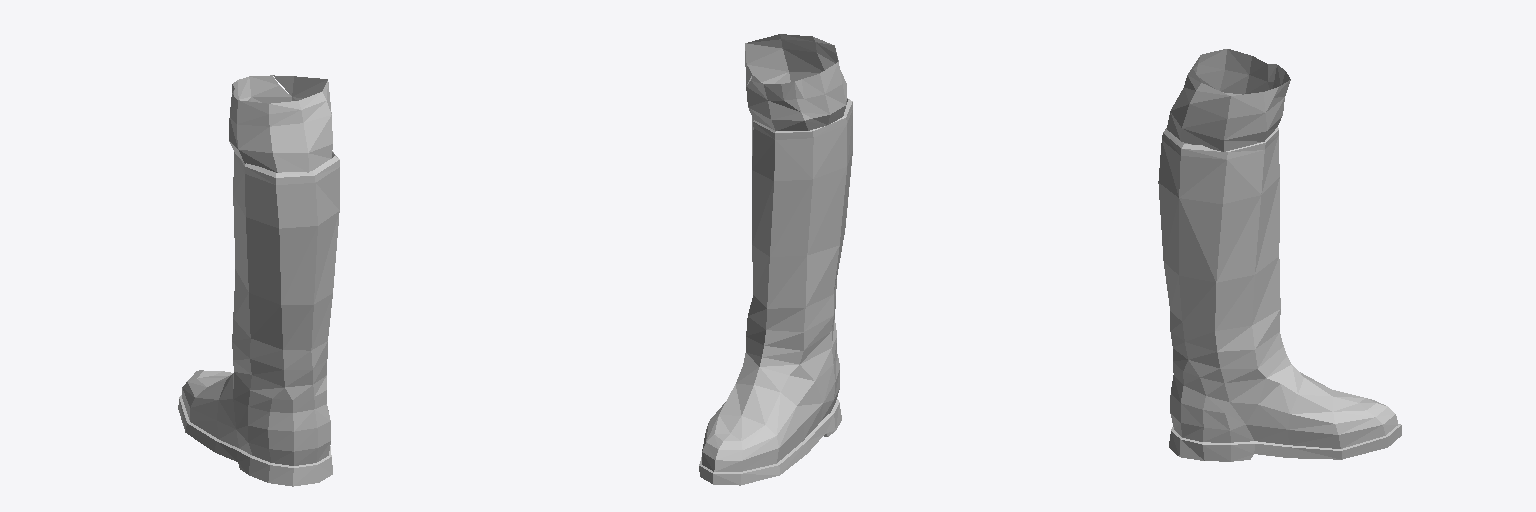
The model's file is zIzqJames.obj.
3 views of the same model, side by side, from view 1: azimuth 30°, elevation 25°; view 2: azimuth 150°, elevation 25°; view 3: azimuth 270°, elevation 25° (orthographic).
Parts seen in each view (by area): view 1: Pierna_Izq.001_James_Mat, L_Knee, L_Ankle, L_Ball; view 2: Pierna_Izq.001_James_Mat, L_Ankle, L_Ball, L_Knee; view 3: Pierna_Izq.001_James_Mat, L_Knee, L_Ankle, L_Ball.
Boxes of the visible parts, x1=… form: Pierna_Izq.001_James_Mat: x1=229, y1=75, x2=339, y2=406; L_Knee: x1=235, y1=152, x2=339, y2=486; L_Ankle: x1=186, y1=373, x2=271, y2=482; L_Ball: x1=178, y1=370, x2=232, y2=432; Pierna_Izq.001_James_Mat: x1=745, y1=34, x2=852, y2=380; L_Ankle: x1=710, y1=352, x2=841, y2=474; L_Ball: x1=699, y1=415, x2=779, y2=485; L_Knee: x1=746, y1=99, x2=852, y2=401; Pierna_Izq.001_James_Mat: x1=1158, y1=49, x2=1290, y2=351; L_Knee: x1=1158, y1=133, x2=1286, y2=455; L_Ankle: x1=1179, y1=356, x2=1341, y2=461; L_Ball: x1=1332, y1=390, x2=1401, y2=459.
Size of the model in its own units: 12.1 by 45.12 by 26.47.